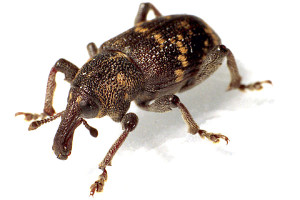dolgonosik: (13, 2, 272, 197)
